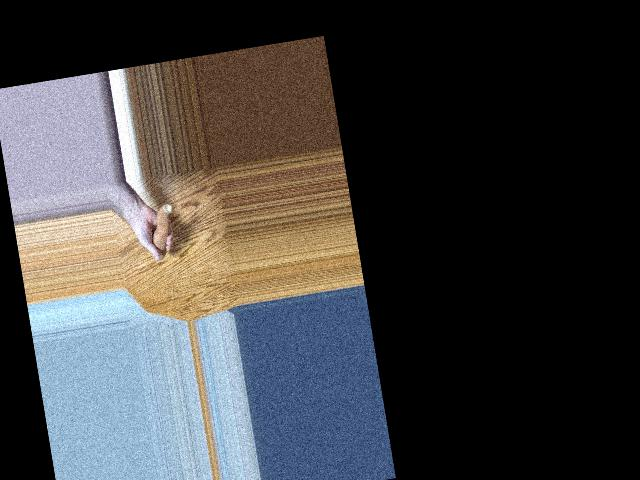sweet_potato: (146, 199, 179, 263)
